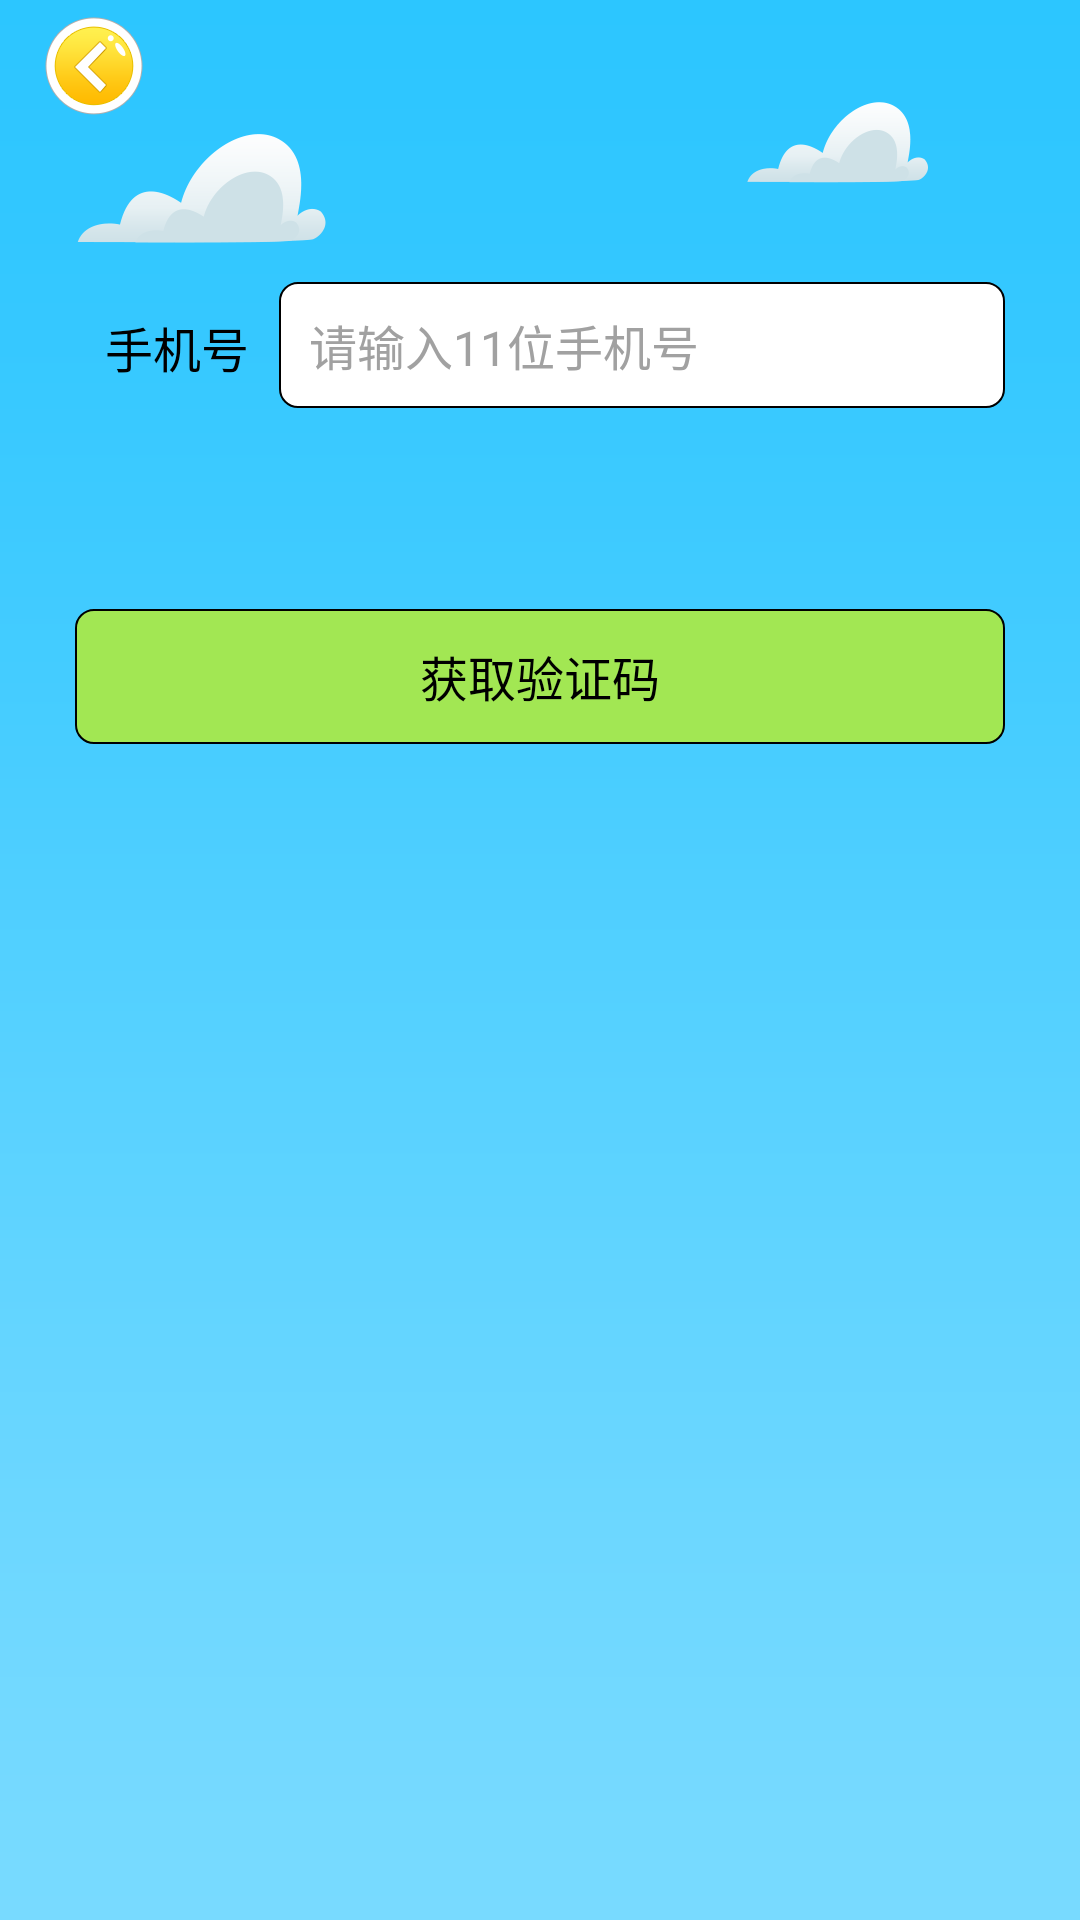

Point at icon controls on the screen. Image size 1080 x 1920, points as point (x, y).
back: point (94, 66)
